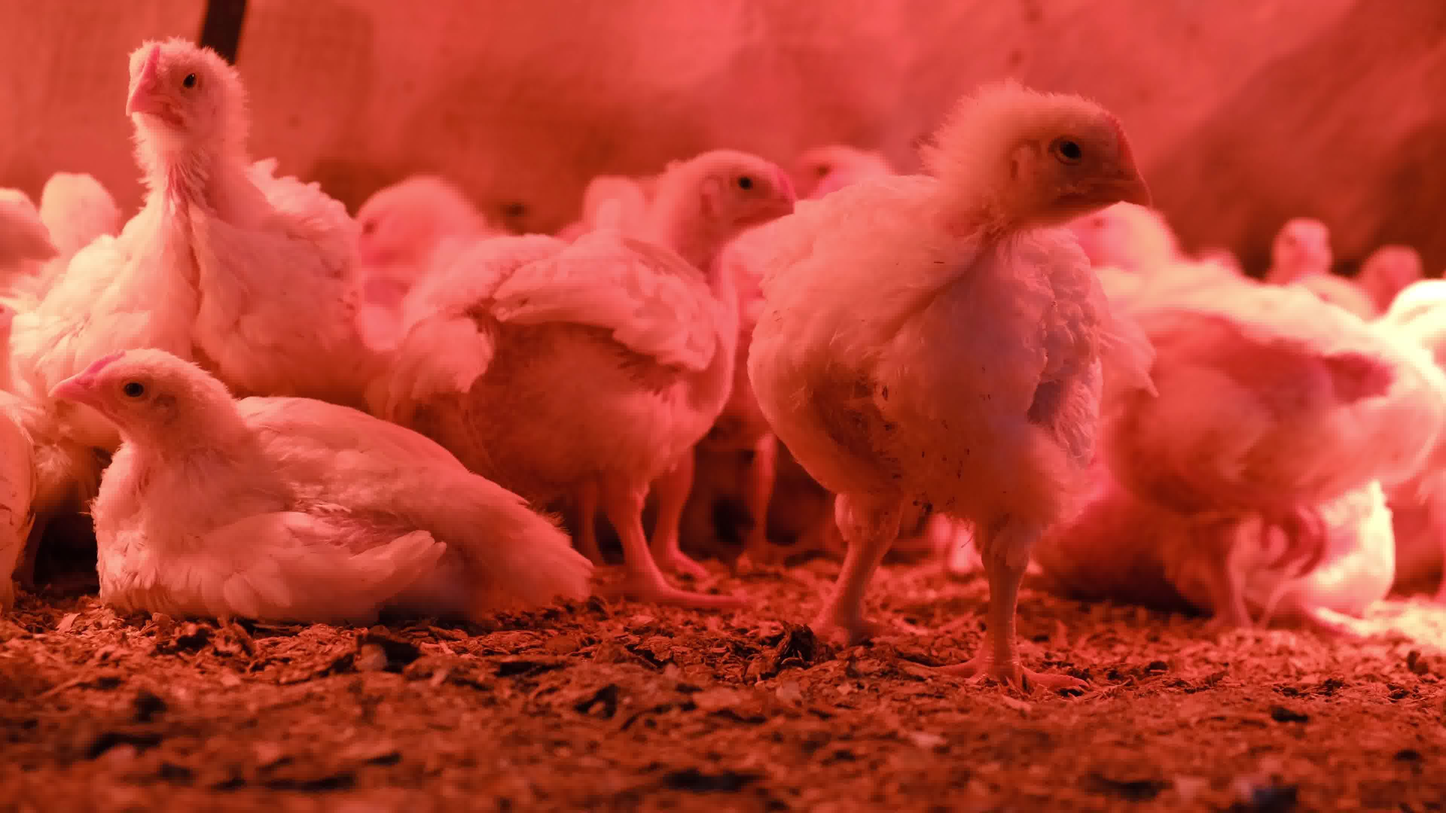AbNormal: (51, 342, 603, 621), (1161, 482, 1414, 635)
Normal: (747, 87, 1155, 691), (388, 149, 797, 604), (1090, 279, 1446, 646), (27, 32, 371, 393), (346, 175, 477, 286), (1069, 202, 1175, 268), (42, 162, 114, 258), (798, 142, 895, 203), (1269, 213, 1335, 286)
